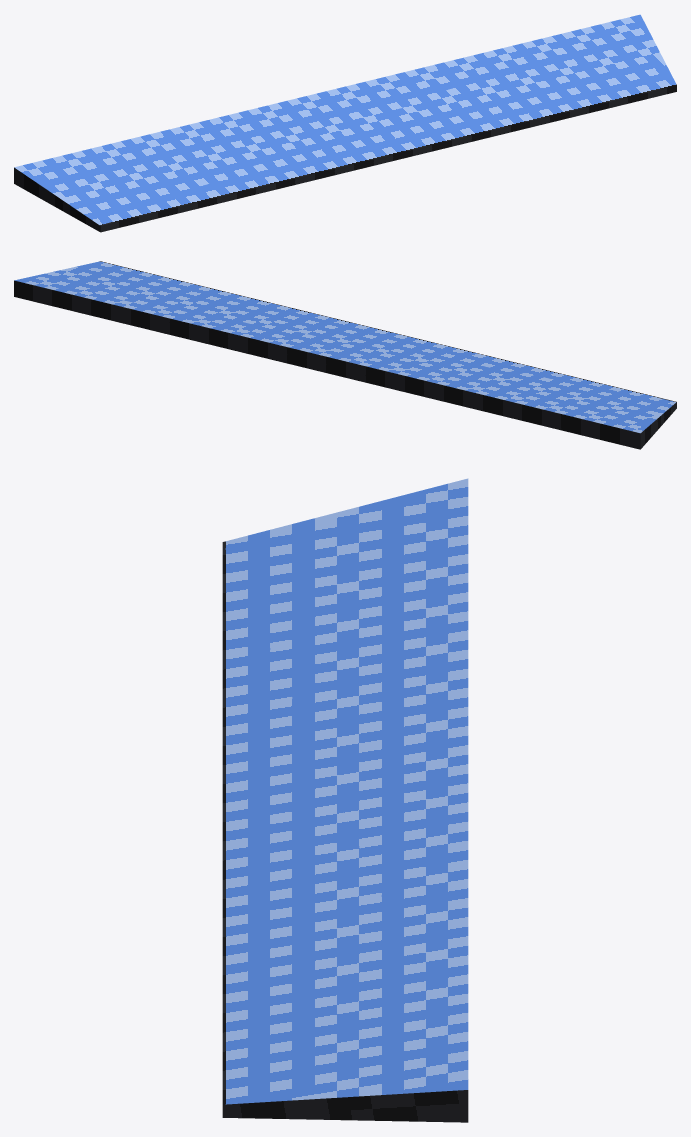
Rendered from spoiler_roof_ext.glb.
The picture shows the model from 3 angles, top to bottom: view 1: azimuth 30°, elevation 25°; view 2: azimuth 150°, elevation 25°; view 3: azimuth 270°, elevation 25°; orthographic projection. The views are drawn at different scales.
Visible parts, largest first — view 1: spoiler_roof_ext.001; view 2: spoiler_roof_ext.001; view 3: spoiler_roof_ext.001.
Part boxes in pixels (<box>): spoiler_roof_ext.001: <box>14,14,676,232</box>; spoiler_roof_ext.001: <box>14,261,676,449</box>; spoiler_roof_ext.001: <box>222,478,468,1122</box>.
Size of the model in its own units: 1 by 0.04 by 0.17.
Materials: 1 (1 with a texture image).
